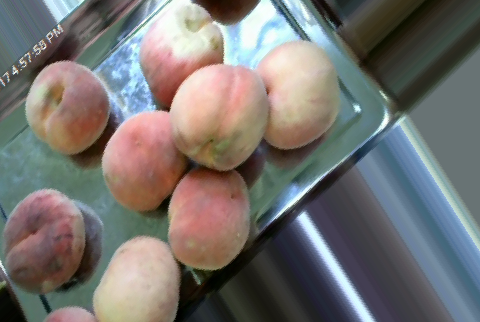Peach: (172, 67, 266, 172), (252, 39, 337, 149), (2, 189, 90, 292), (139, 2, 226, 105), (103, 109, 188, 212), (167, 169, 251, 270), (91, 234, 179, 321), (26, 62, 109, 153)
